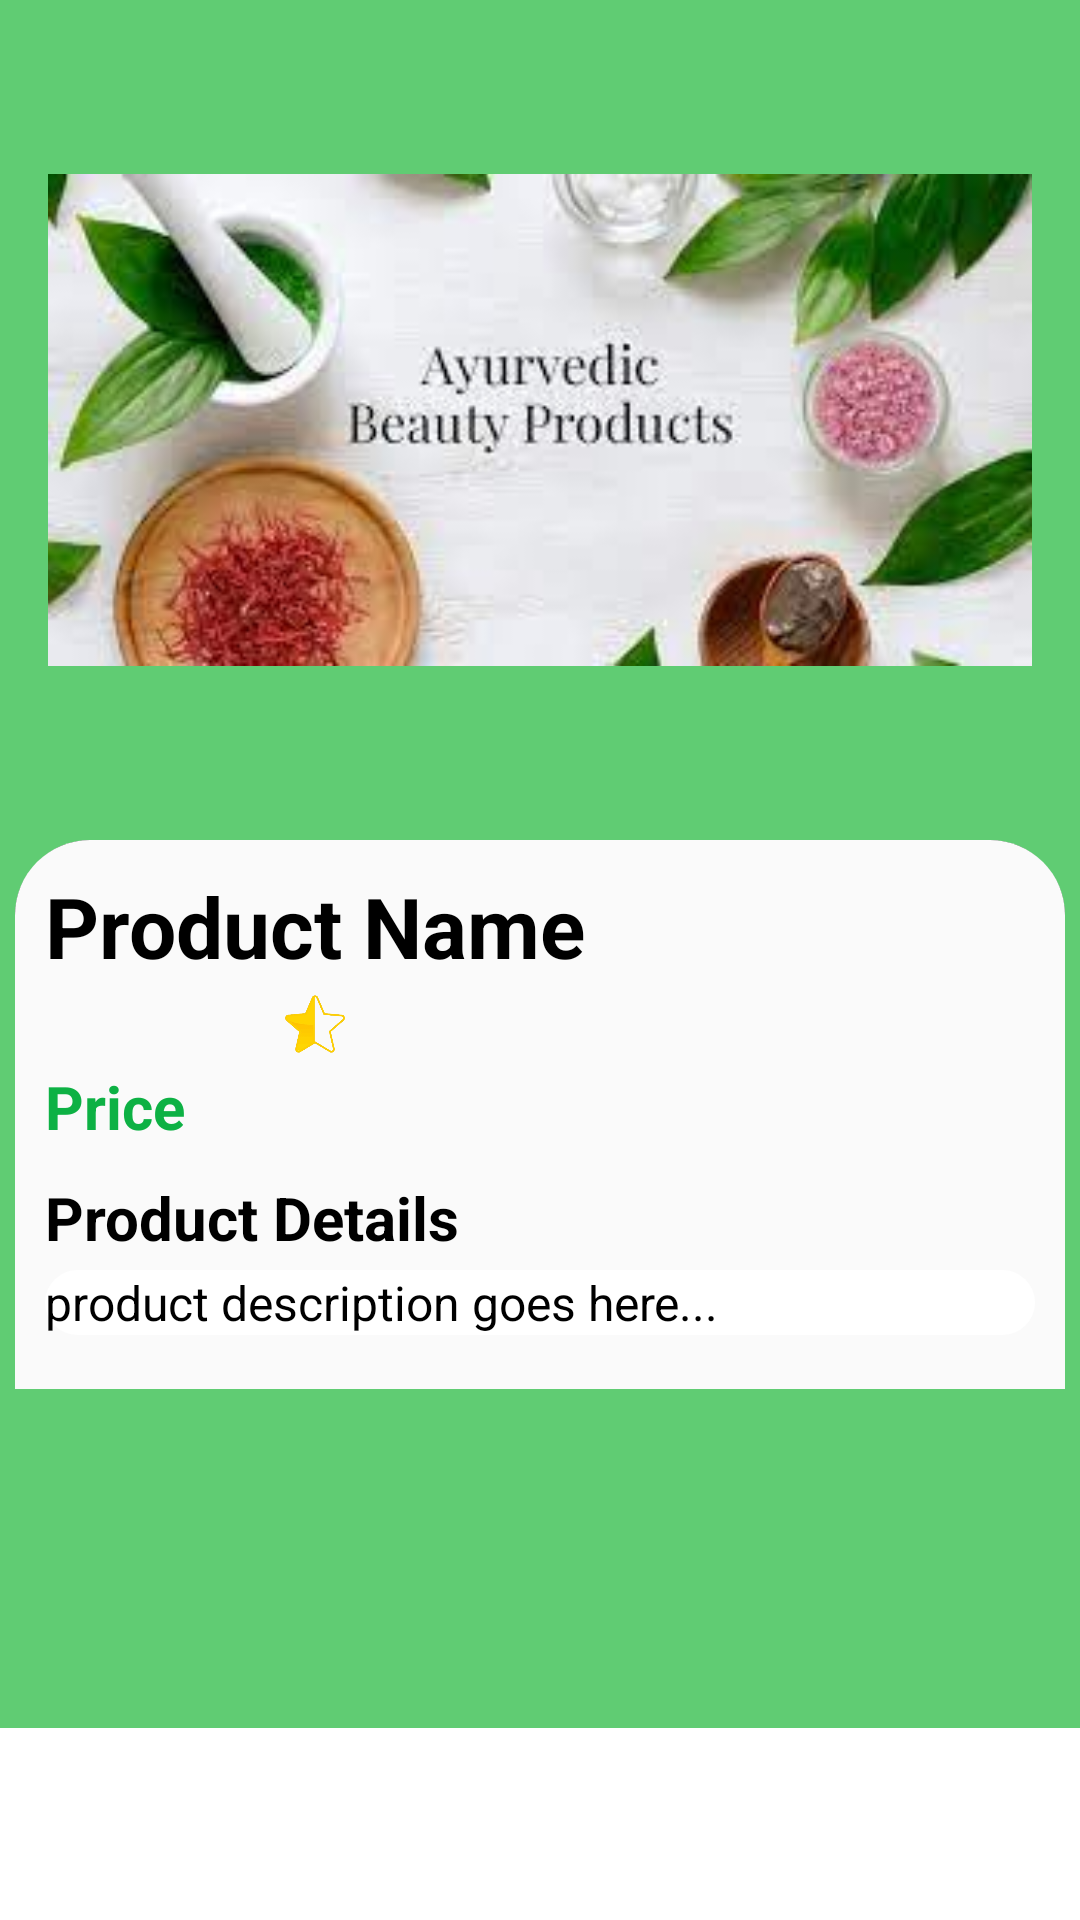

Icons on this 1080 × 1920 Android screen, each with its box as (x1, y1, x2, y2):
halfgold star: (285, 995, 345, 1053)
